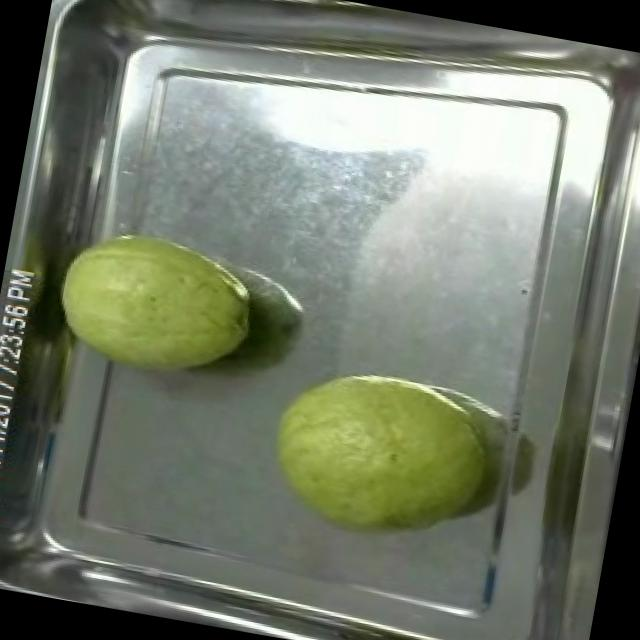Fruit: (250, 346, 507, 560), (36, 208, 270, 394)
